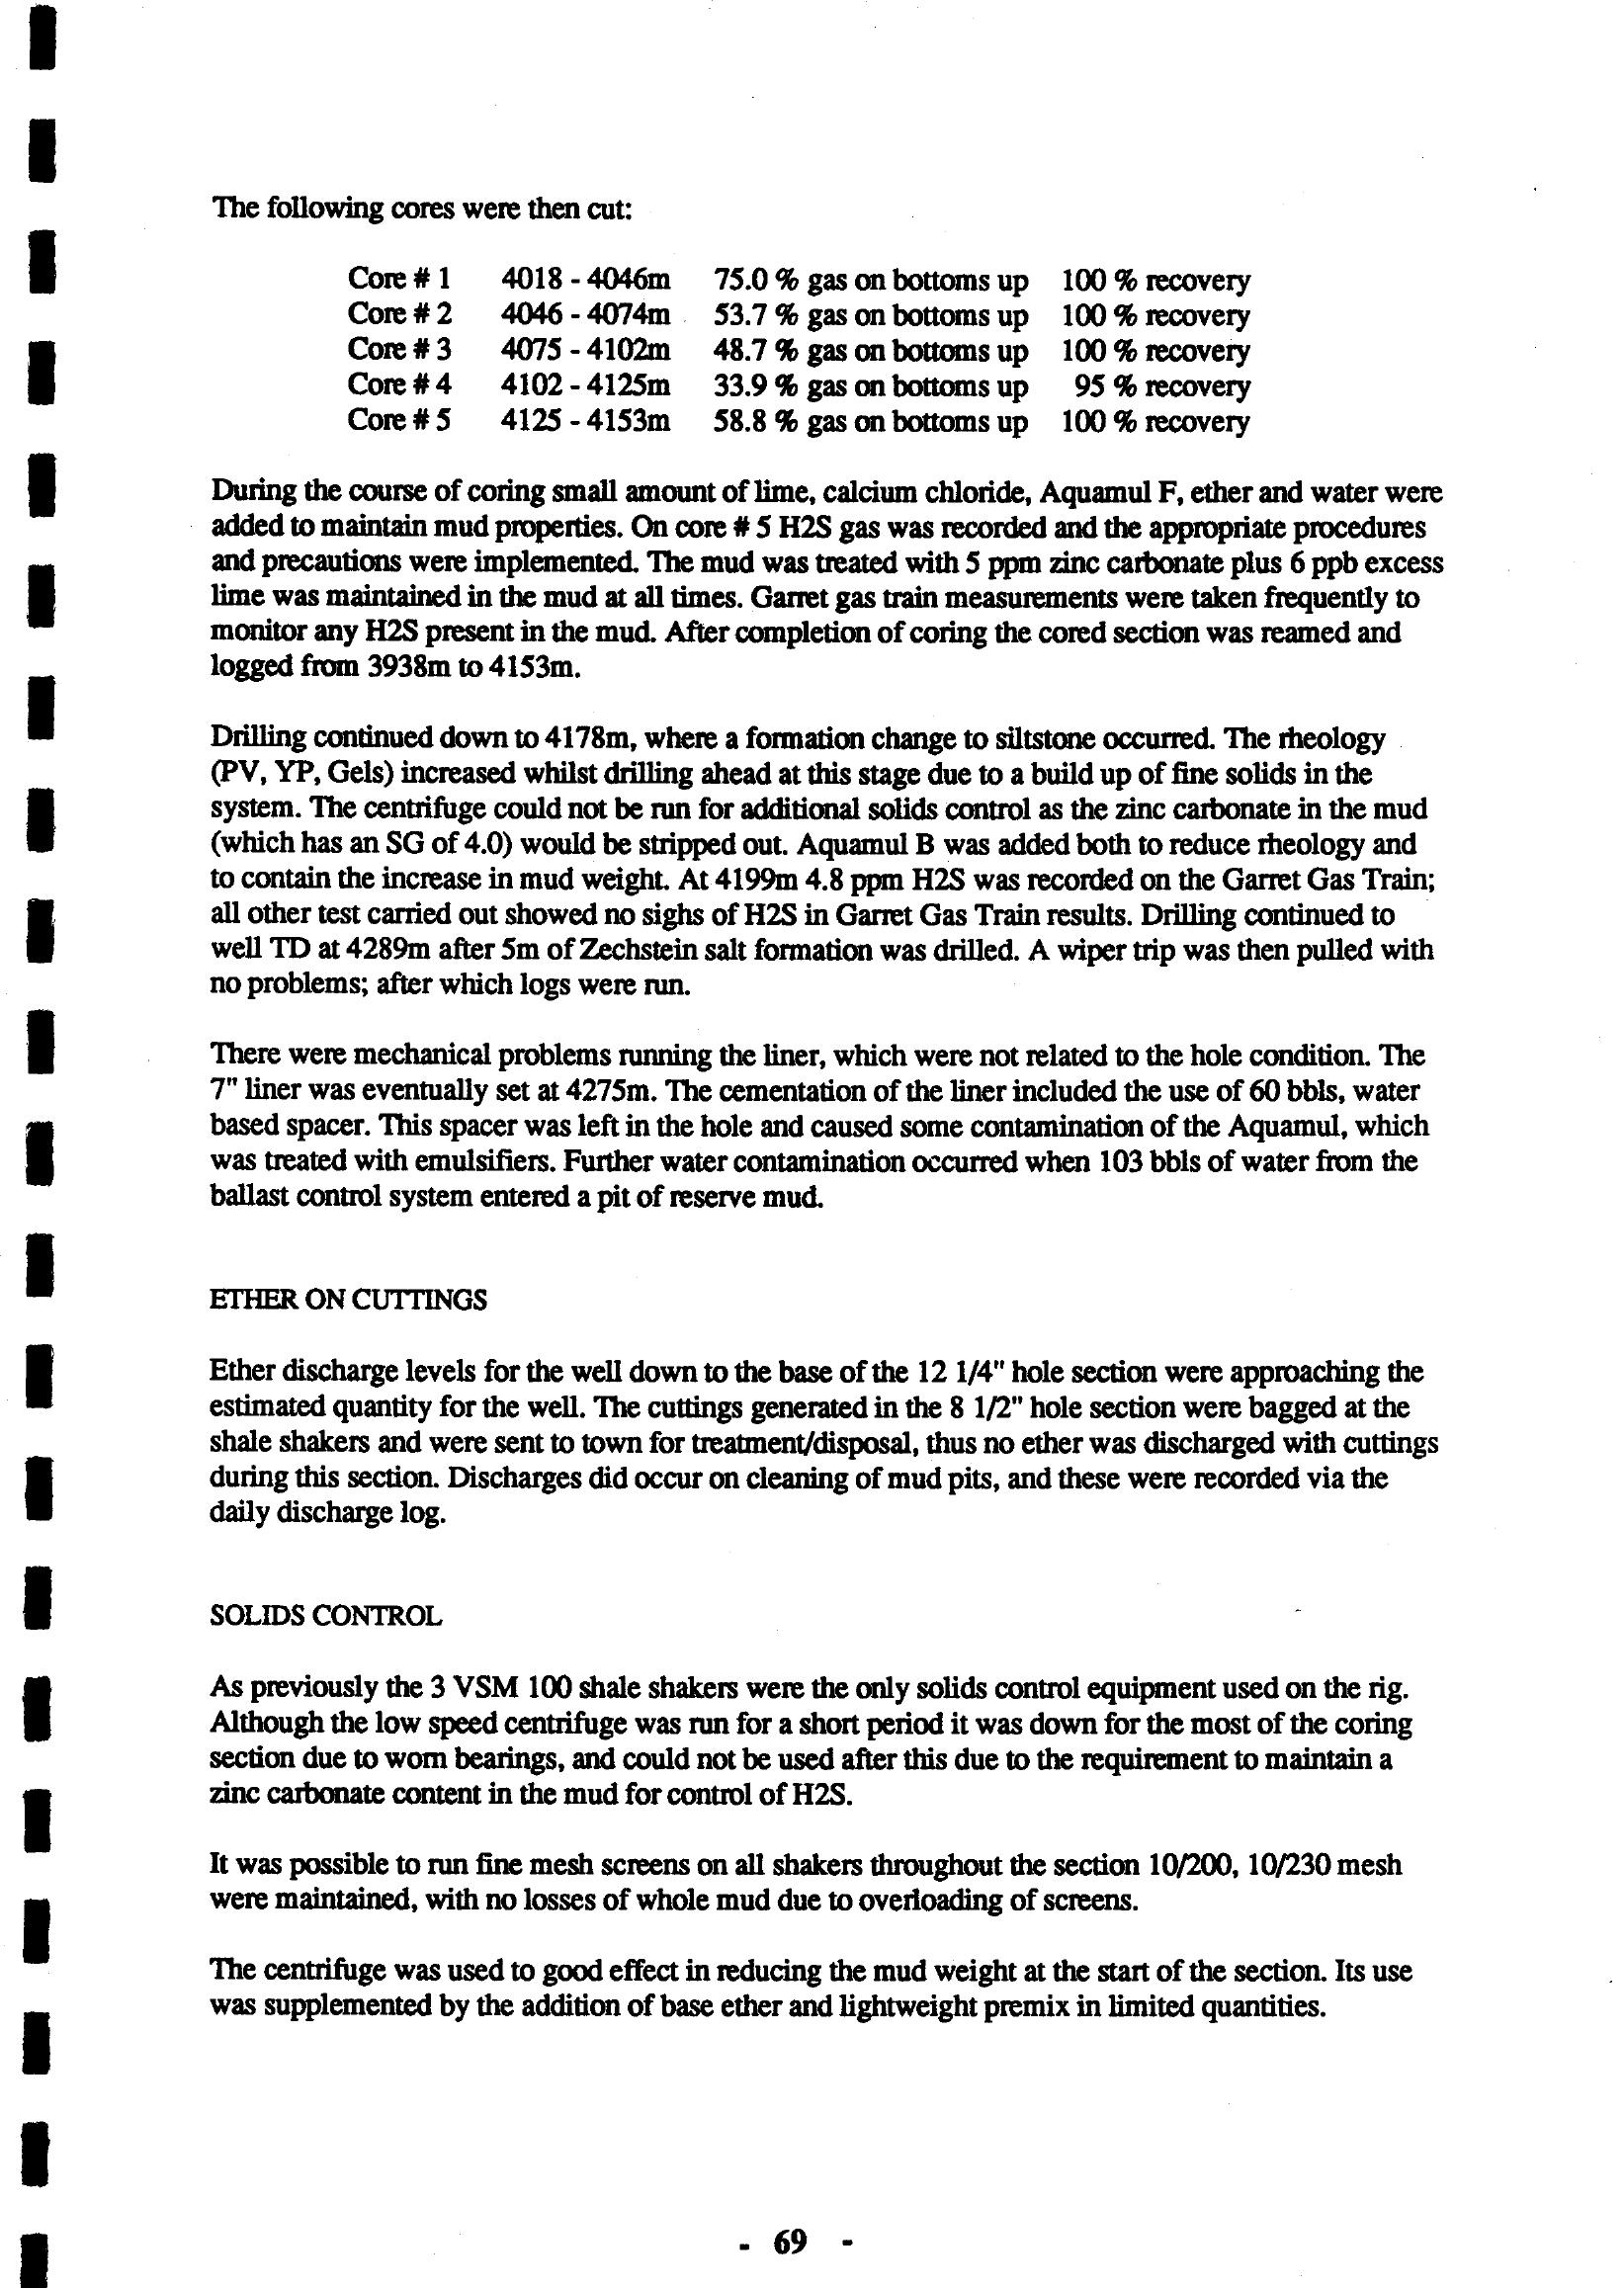text: (186, 160, 1459, 2063)
